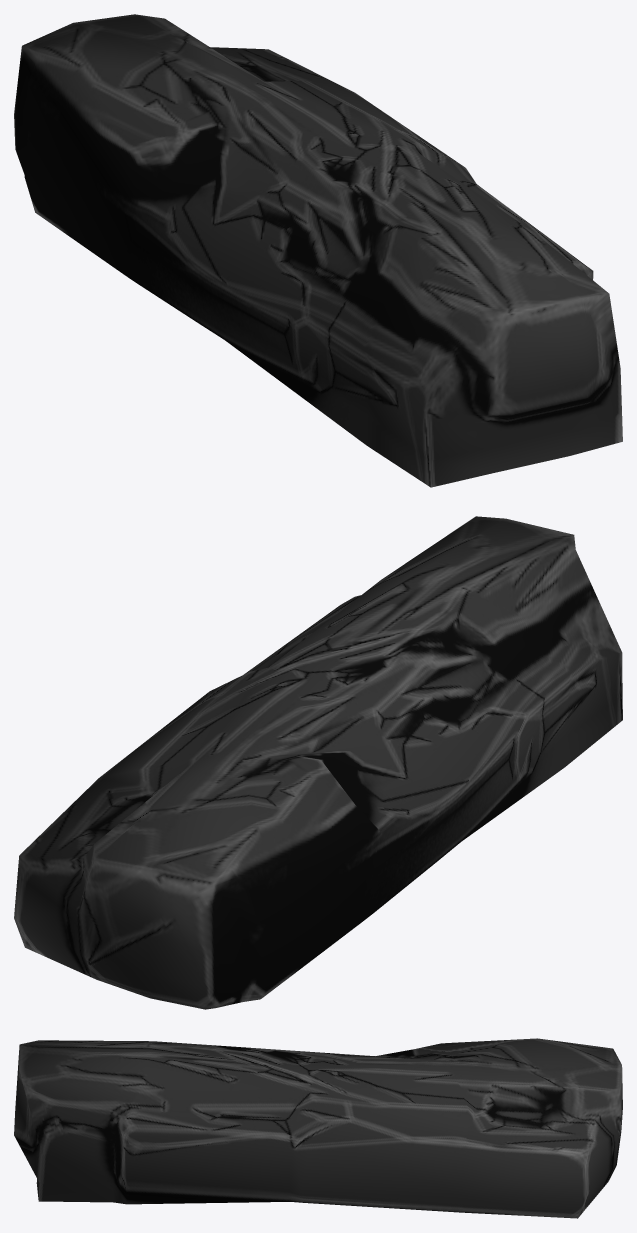
Rendered from roks.001.fbx.
3 views of the same model, one above another, from view 1: azimuth 30°, elevation 25°; view 2: azimuth 150°, elevation 25°; view 3: azimuth 270°, elevation 25° (orthographic). The views are drawn at different scales.
Parts seen in each view (by area): view 1: roks.001; view 2: roks.001; view 3: roks.001.
Part boxes in pixels (x1,y1,x2,y2): roks.001: (14, 14, 622, 487); roks.001: (14, 516, 622, 1009); roks.001: (14, 1038, 622, 1218).
Size of the model in its own units: 1 by 0.6777 by 2.95.
